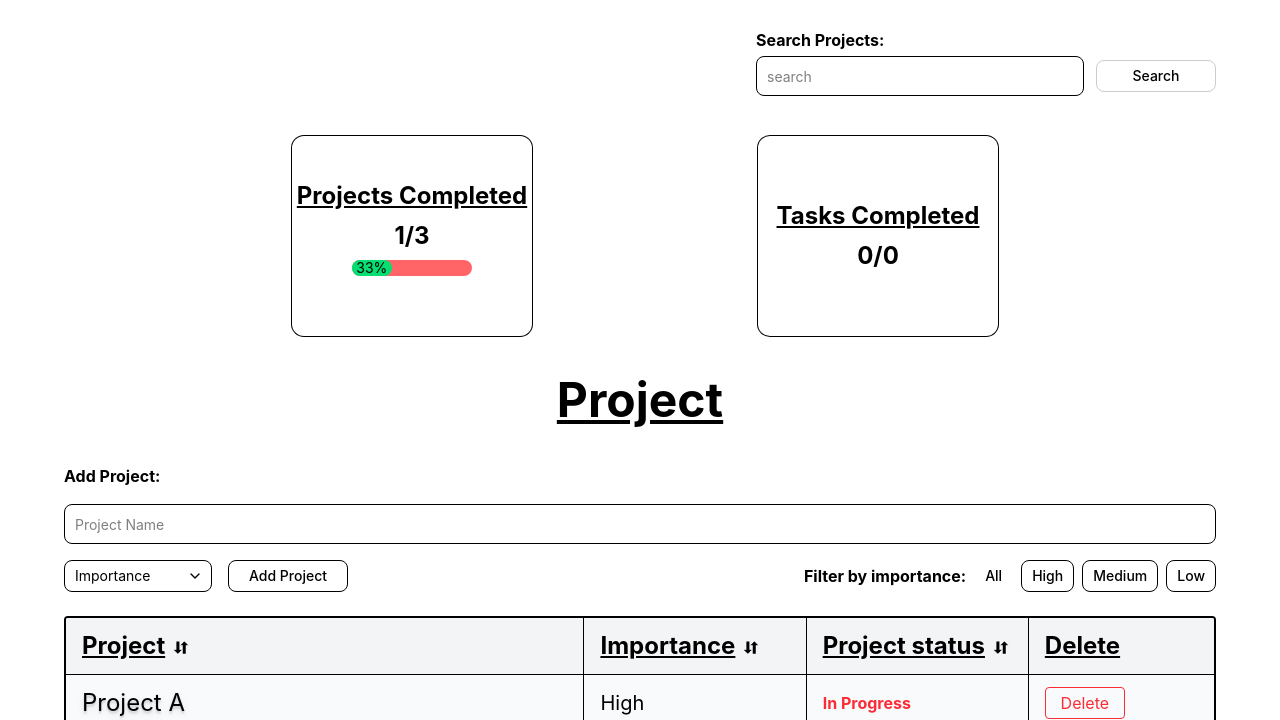
Scenario: ProjectCard › Filters projects by importance when a filter button is clicked and clears other filters
The width and height of the screenshot is (1280, 720).
Expected: the heading "Project A" is shown, [82,687,185,719]
Expected: the heading "Filter by importance:" is shown, [804,564,966,588]
Click the button "High": (1048, 576) [1021,560,1074,592]
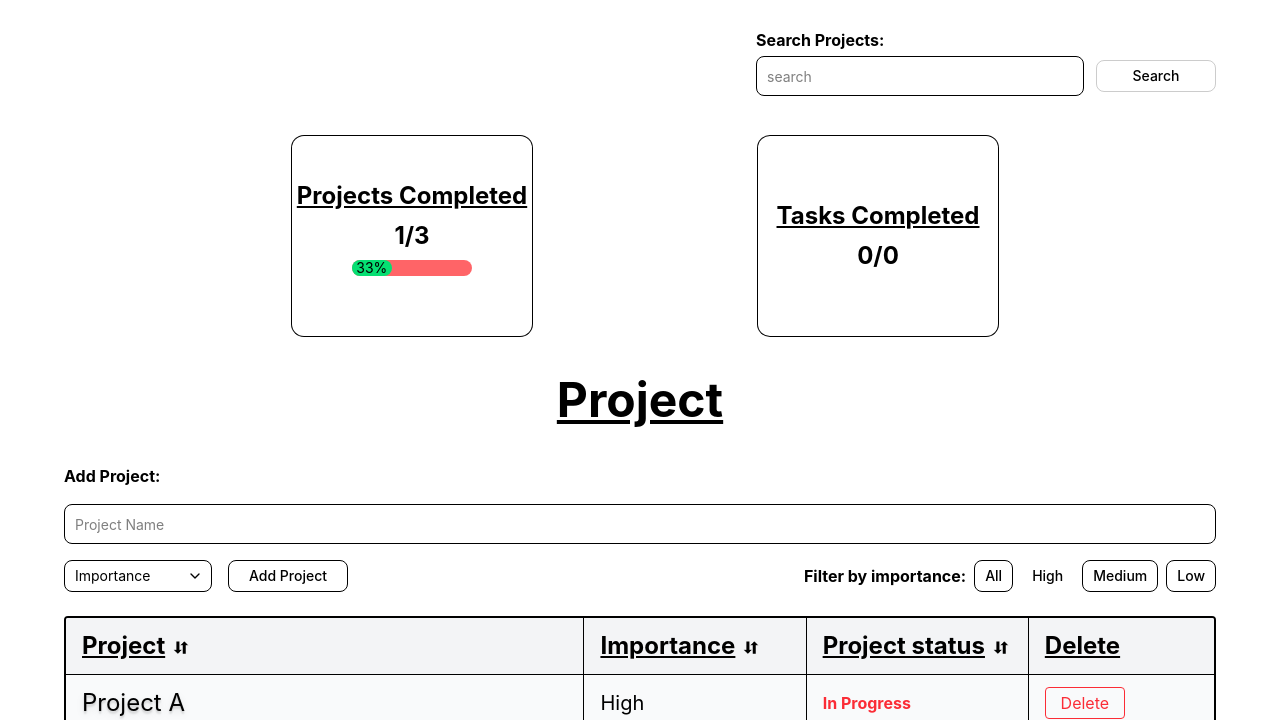
Expected: the heading "Project A" is shown, [82,687,185,719]
Expected: the text "project b" is not shown
Click the button "Low": (1191, 576) [1166,560,1216,592]
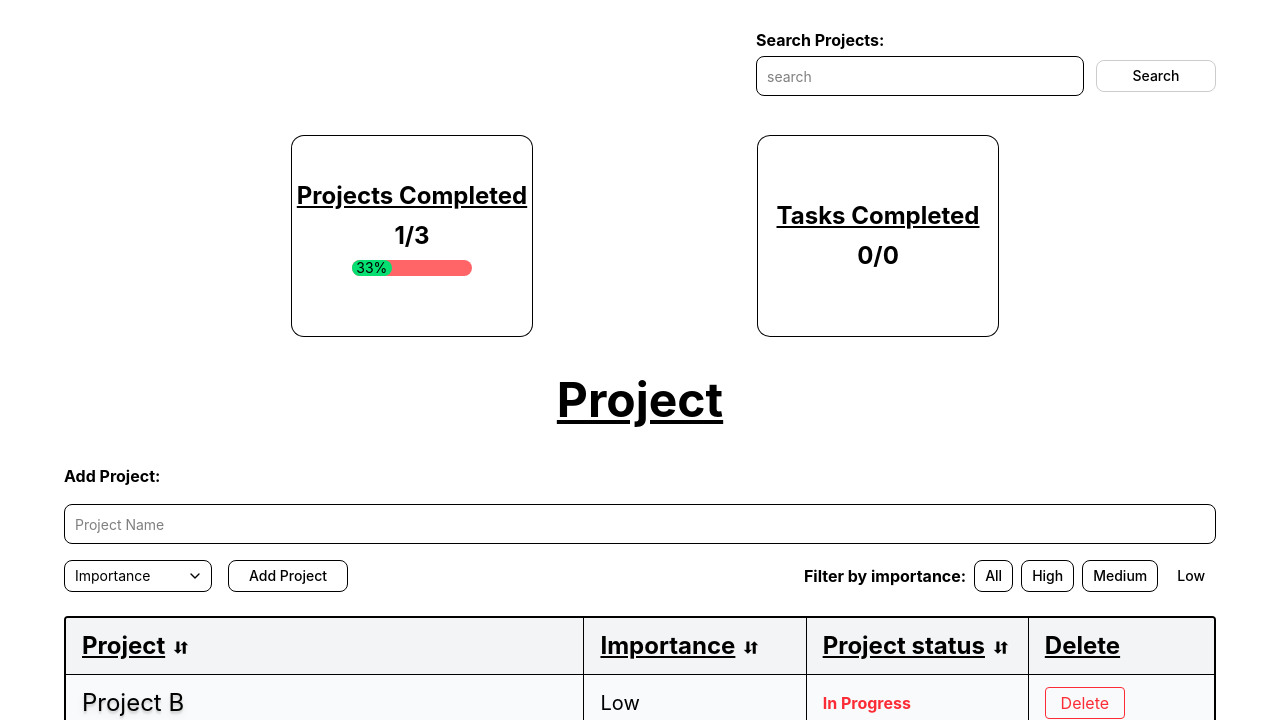
Expected: the text "project c" is not shown
Now the heading "Project B" is shown, box [82,687,184,719]
Click the button "Medium": (1120, 576) [1082,560,1158,592]
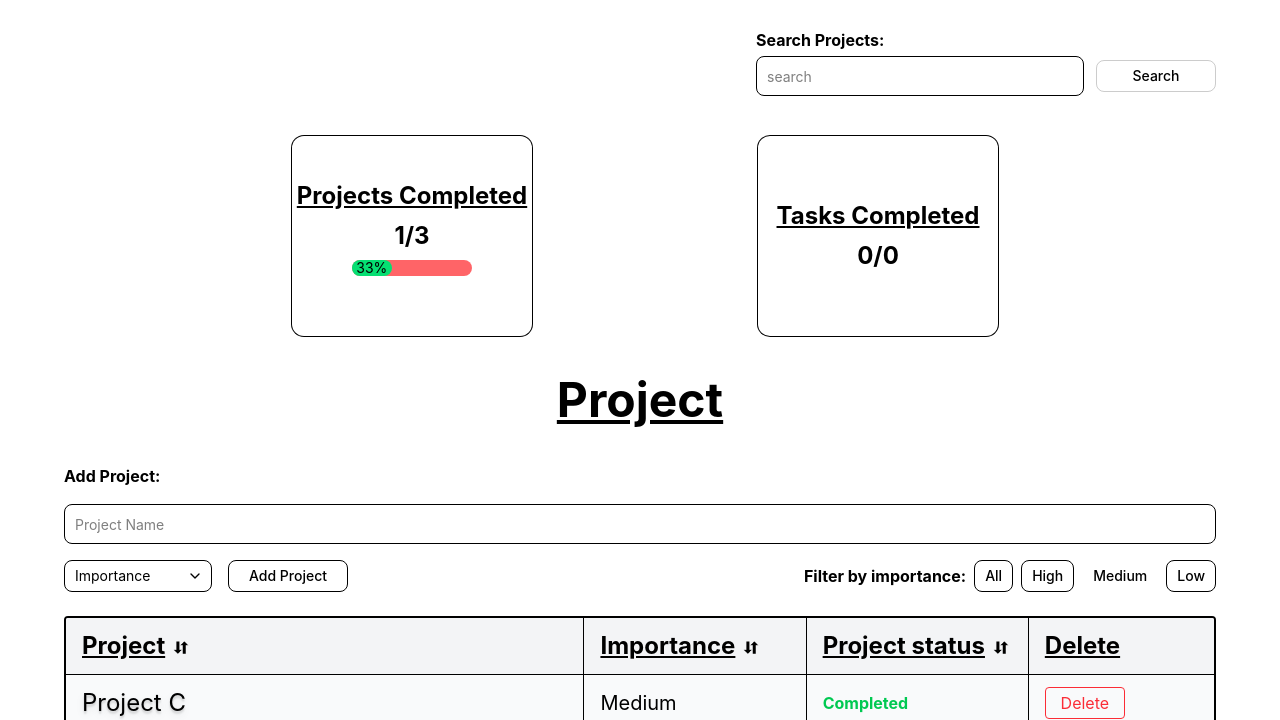
Now the link "Project B" is gone
Now the heading "Project C" is shown, box [82,687,186,719]
